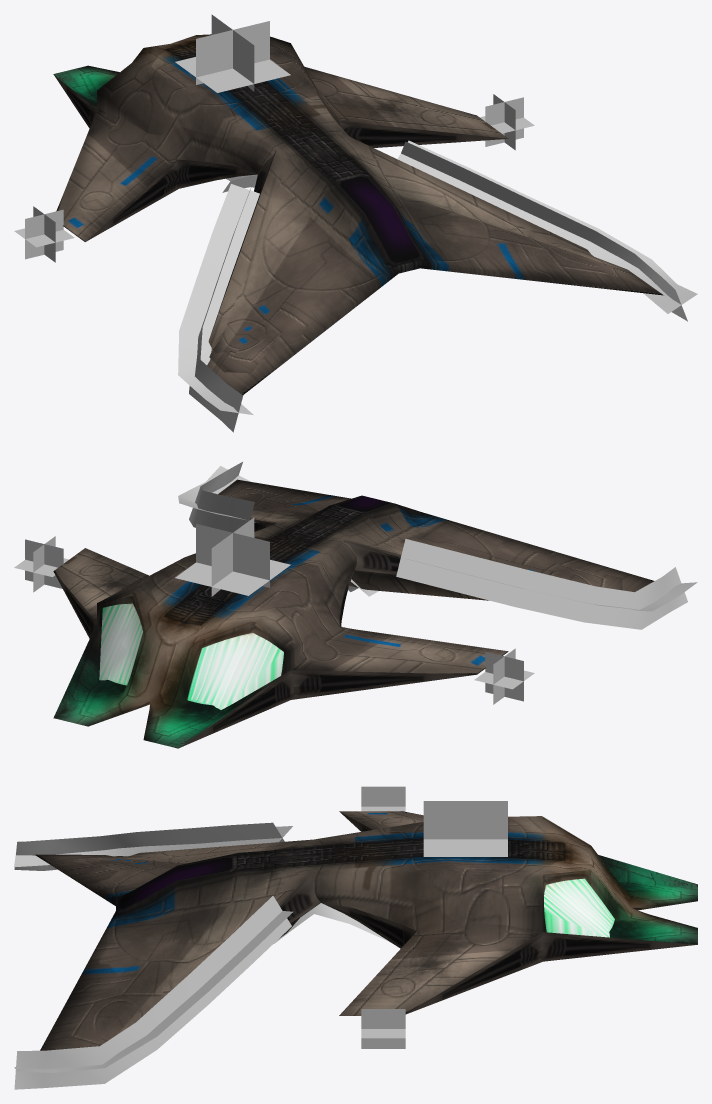
Rendered from ariston.obj.
The picture shows the model from 3 angles, top to bottom: view 1: azimuth 30°, elevation 25°; view 2: azimuth 150°, elevation 25°; view 3: azimuth 270°, elevation 25°; orthographic projection.
Size of the model in its own units: 23.3 by 8.06 by 27.94.
